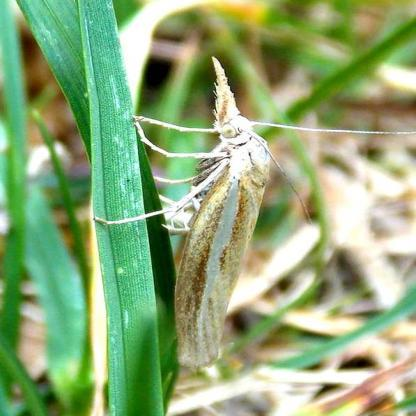stem-borer: (92, 52, 415, 370)
